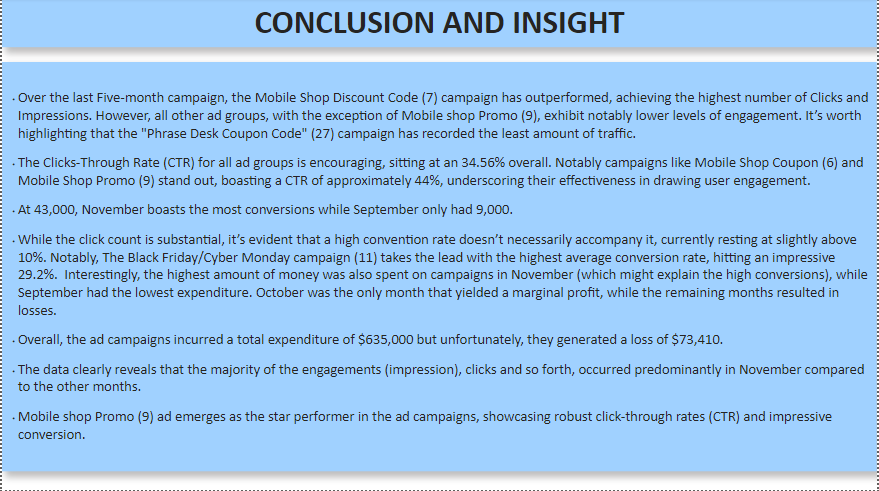

Layout of this report page (visuals, bound fields, positions):
{"tool":"powerbi","page":{"name":"Insights","canvas":[1280,720],"ordinal":2},"visuals":[{"type":"textbox","box":[0,0,1280.5,71.7],"z":0},{"type":"textbox","box":[0,93.7,1280.5,598.5],"z":1000}]}

Visuals, with their boxes in screenshot pixels (x1, y1, x2, y2), scaled from the page's 1280x720 canvas onto the 879x491 screenshot:
textbox: 0 0 878 49
textbox: 0 64 878 472
